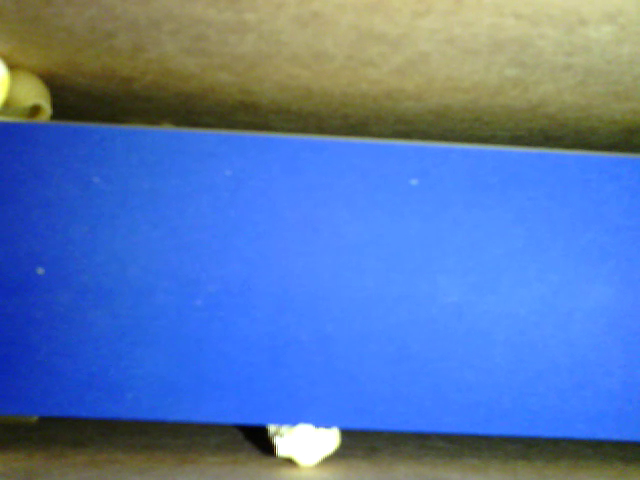shell: (2, 68, 52, 127)
